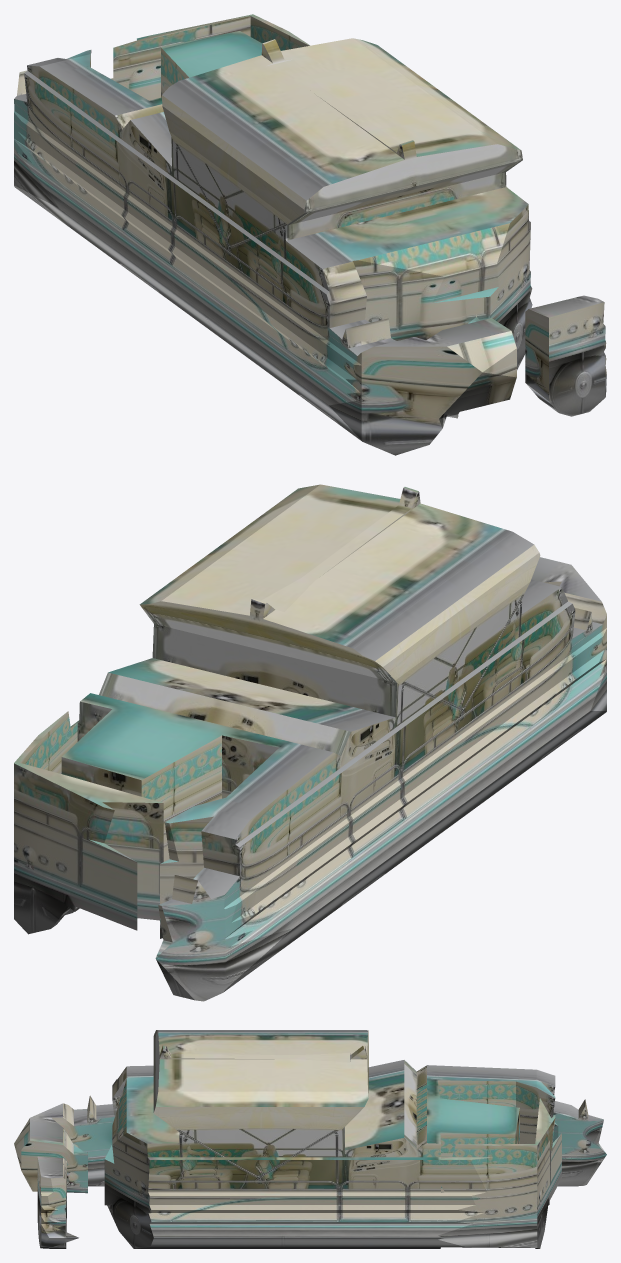
File: pontoon_boat.glb
The picture shows the model from 3 angles, top to bottom: view 1: azimuth 30°, elevation 25°; view 2: azimuth 150°, elevation 25°; view 3: azimuth 270°, elevation 25°; orthographic projection. The views are drawn at different scales.
Parts seen in each view (by area): view 1: pontoon_boat; view 2: pontoon_boat; view 3: pontoon_boat.
Boxes of the visible parts, x1=… form: pontoon_boat: x1=14, y1=14, x2=606, y2=455; pontoon_boat: x1=14, y1=484, x2=606, y2=1001; pontoon_boat: x1=14, y1=1030, x2=606, y2=1248.
Bounding box in the file's own units: 2.54 × 2.38 × 7.48.
2 materials, 1 textured.
